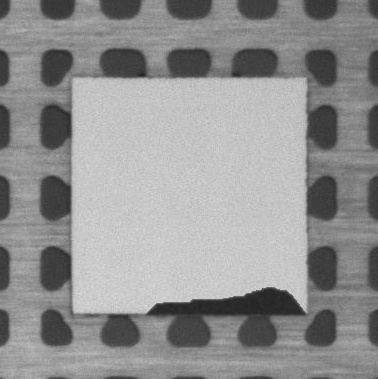DIE_BROKEN: (143, 286, 310, 317)
